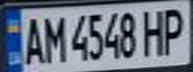4: (66, 10, 90, 62), (103, 8, 121, 60)
5: (84, 10, 106, 61)
8: (118, 8, 142, 59)
A: (18, 12, 45, 65)
H: (139, 6, 169, 56)
M: (39, 11, 66, 64)
P: (157, 3, 190, 56)
